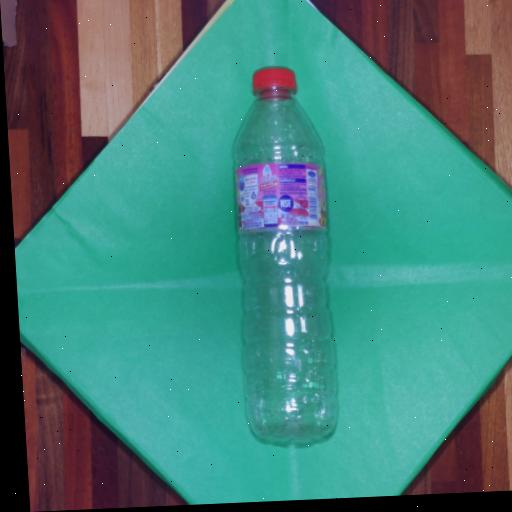bottle: (211, 41, 358, 465)
